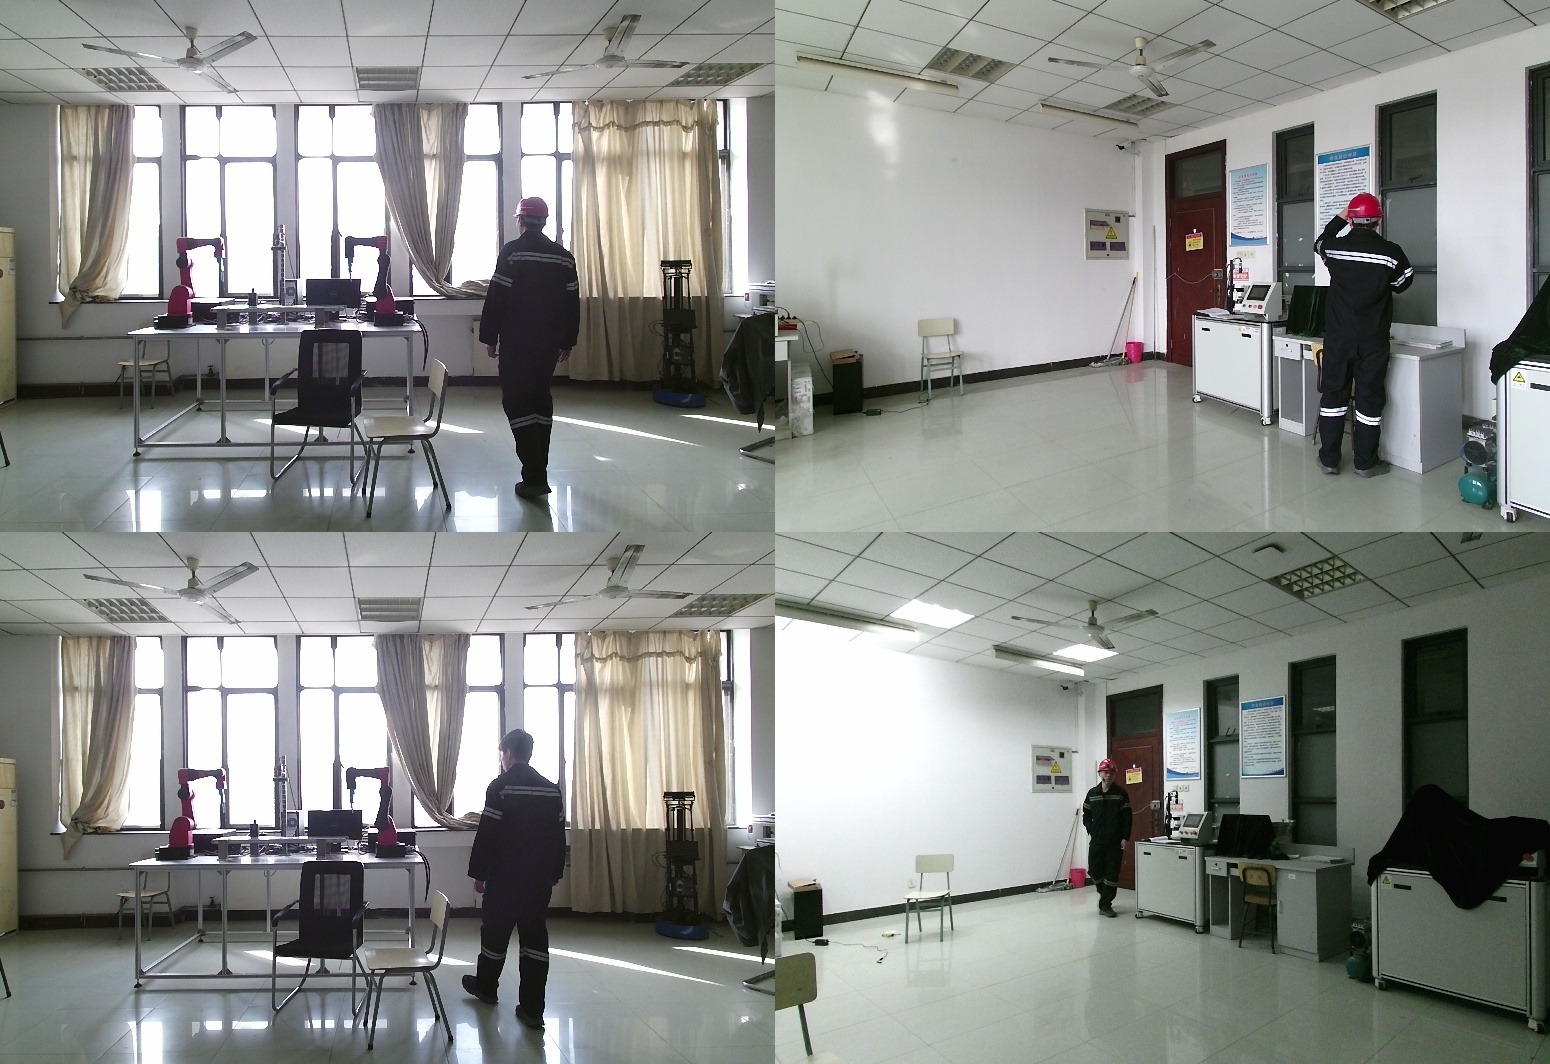person: (1315, 192, 1440, 479), (483, 195, 598, 500), (461, 732, 574, 1026), (1080, 760, 1139, 921)
